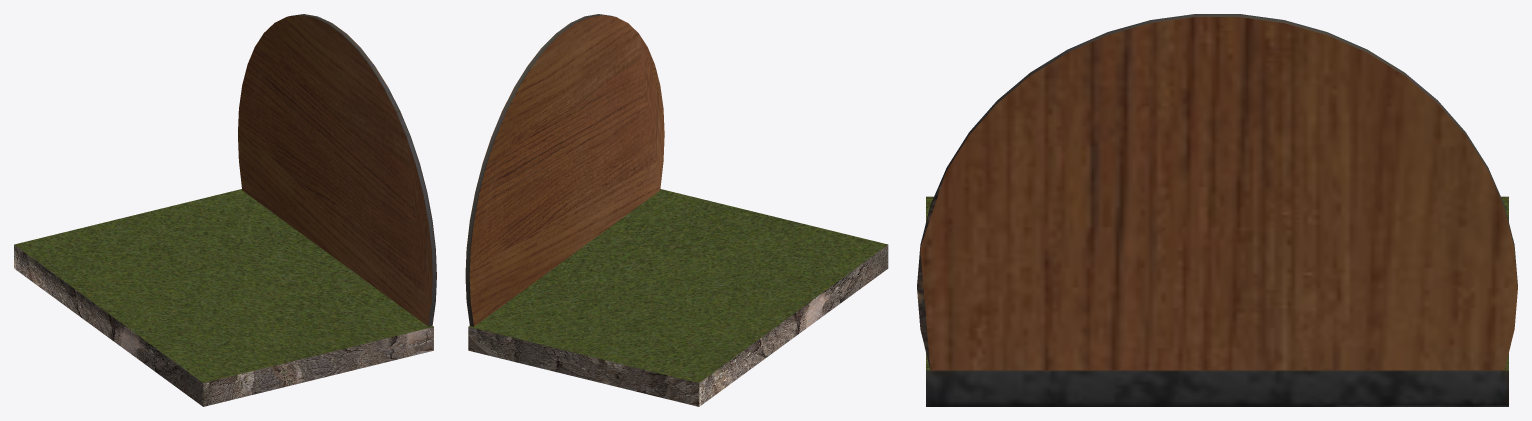
File: florana_room.glb
3 renders of one model, left to right at view 1: azimuth 30°, elevation 25°; view 2: azimuth 150°, elevation 25°; view 3: azimuth 270°, elevation 25°, orthographic. The views are drawn at different scales.
Visible parts, largest first — view 1: defaultMaterial.003; view 2: defaultMaterial.003; view 3: defaultMaterial.003.
Part boxes in pixels (box(x1,y1,x2,y2)): defaultMaterial.003: box(14, 14, 436, 406); defaultMaterial.003: box(465, 14, 888, 406); defaultMaterial.003: box(917, 14, 1517, 406).
Size of what is drawn, in the model's own units: 2.75 by 2.88 by 4.03.
Materials: 5 (5 with a texture image).
